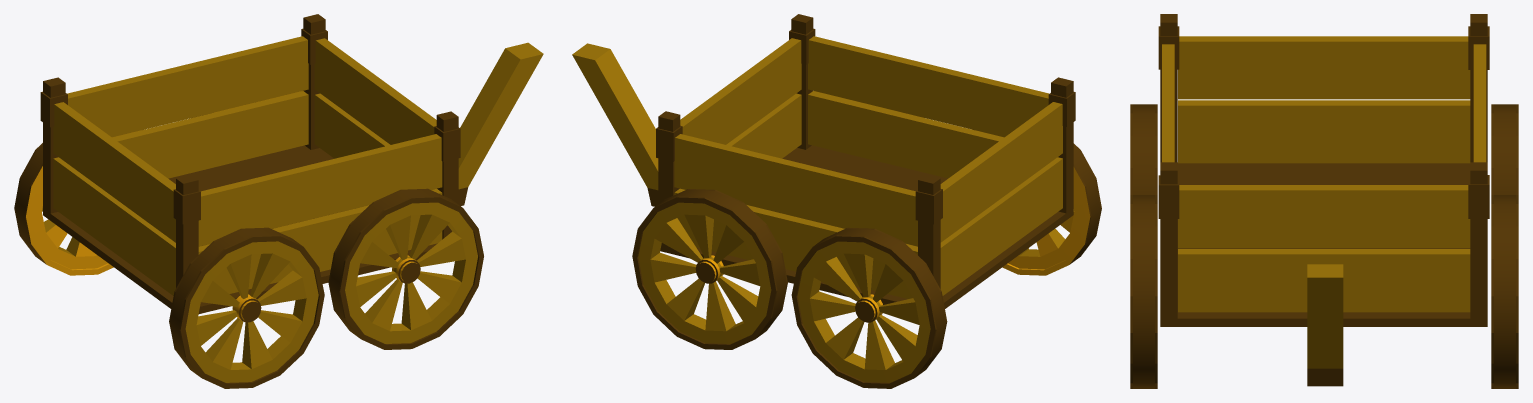
Rendered from Car Wood.fbx.
3 renders of one model, left to right at view 1: azimuth 30°, elevation 25°; view 2: azimuth 150°, elevation 25°; view 3: azimuth 270°, elevation 25°, orthographic. The views are drawn at different scales.
Parts seen in each view (by area): view 1: group67; view 2: group67; view 3: group67.
Boxes of the visible parts, box(x1,y1,x2,y2) form: group67: box(14, 14, 543, 388); group67: box(572, 14, 1101, 388); group67: box(1130, 14, 1518, 388).
Size of the model in its own units: 6.09 by 2.76 by 4.
